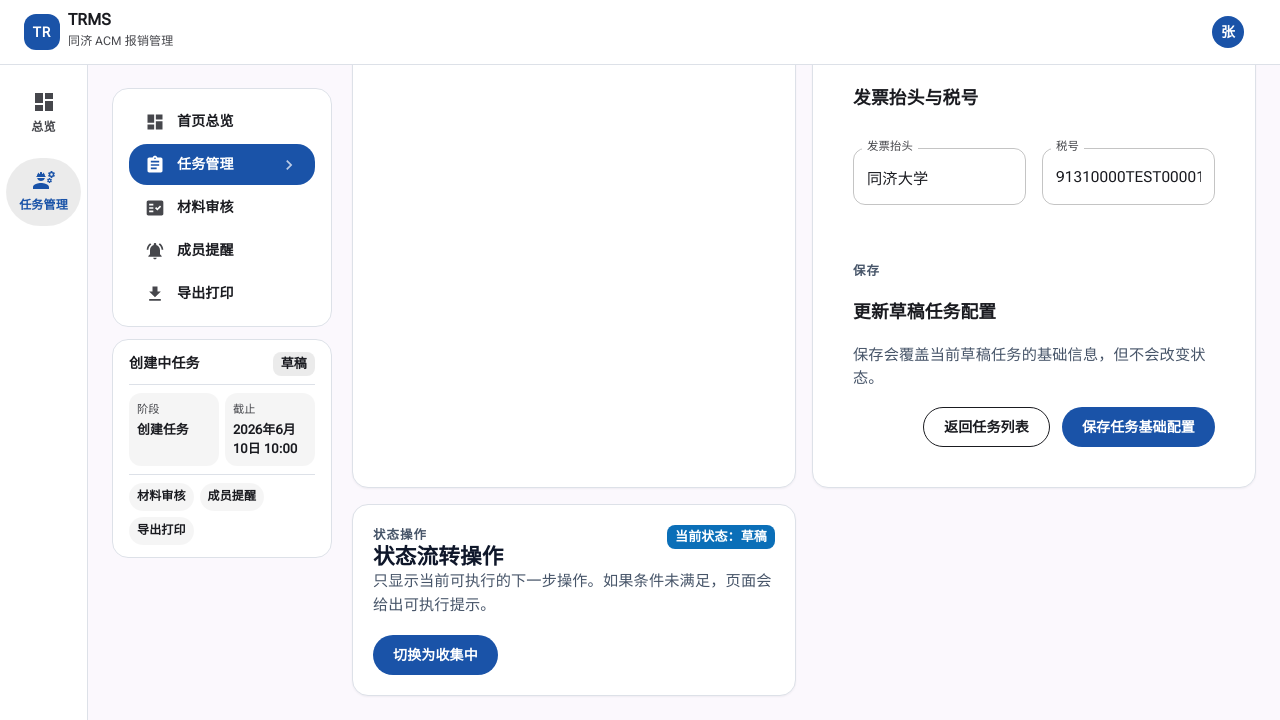
admin task detail page › updates task status when the backend accepts the transition
This screenshot has width=1280, height=720.
(page scrolled)
Click the button "切换为收集中" at (435, 655), box [373,635,498,675]
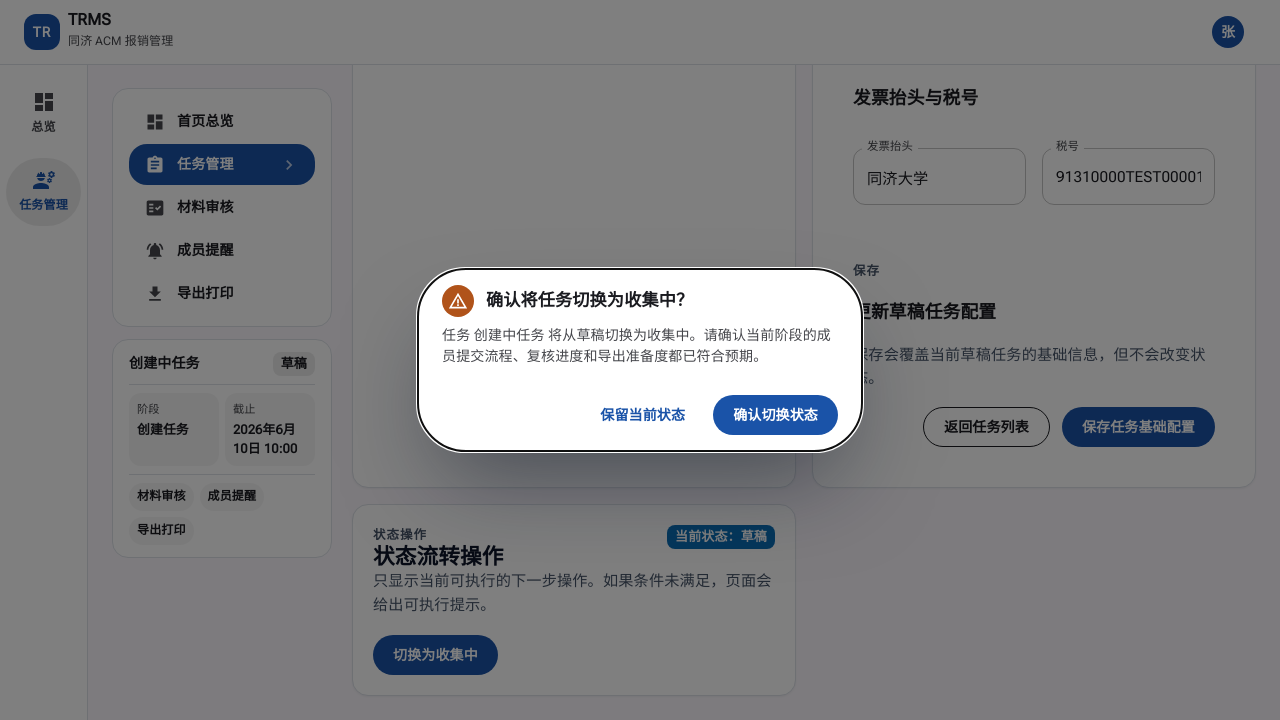
Expected: the text "任务 创建中任务 将从草稿切换为收集中。请确认当前阶段的成员提交流程、复核进度和导出准备度都已符合预期。" is shown, [442,325,838,367]
Click the button "保留当前状态" at (643, 415), box [580,395,705,435]
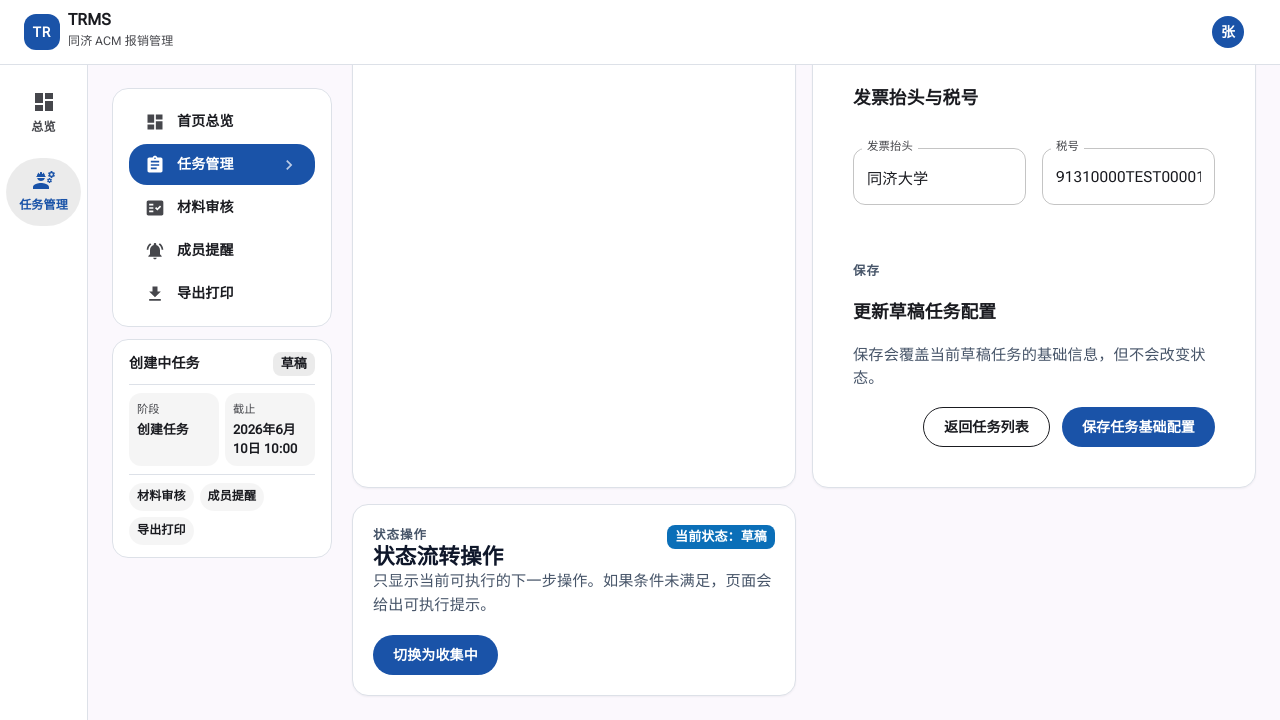
Expected: the dialog is gone
Click the button "切换为收集中" at (435, 655), box [373,635,498,675]
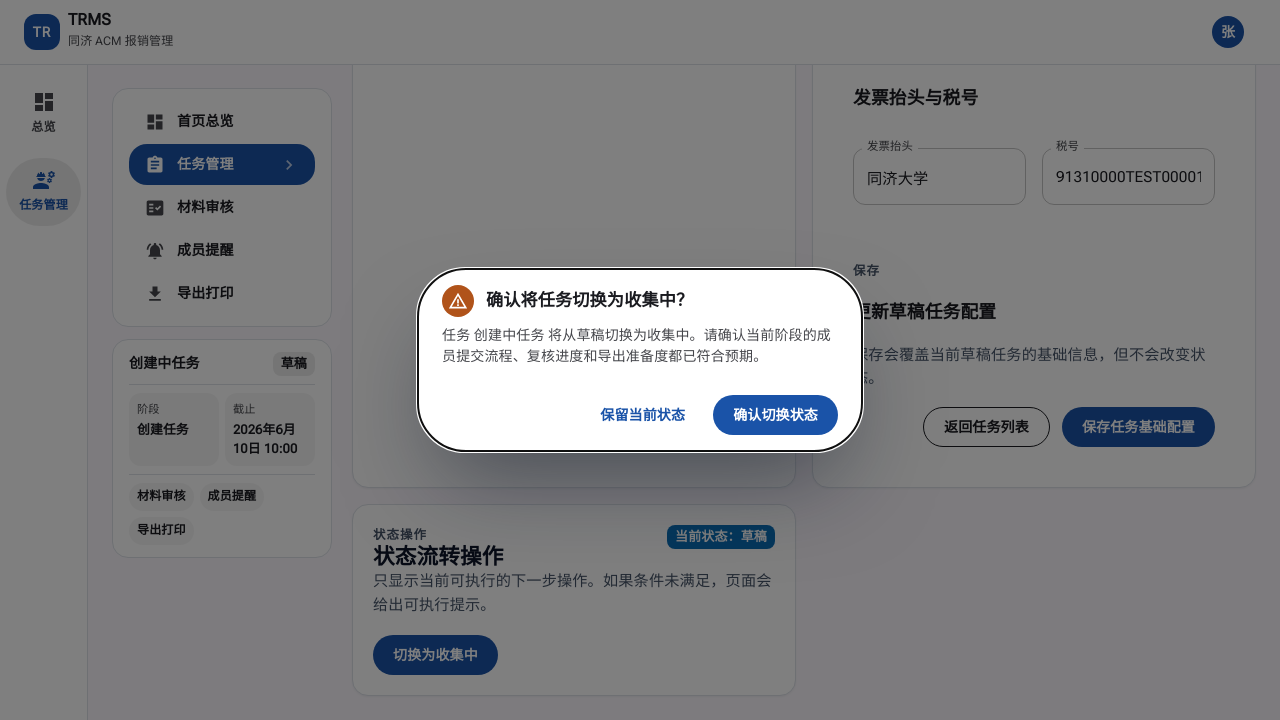
Click the button "确认切换状态" at (776, 415), box [713,395,838,435]
(page scrolled)
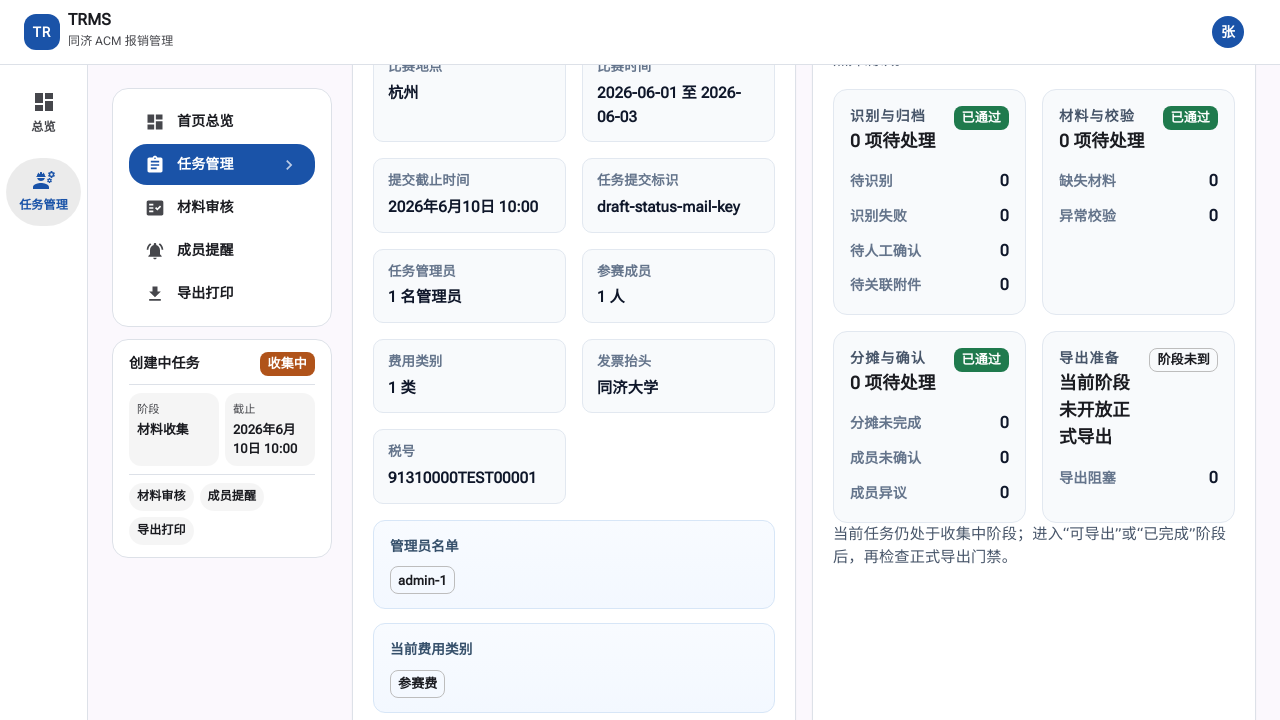
Expected: the dialog is gone
Expected: the text "当前任务仍处于收集中阶段；进入“可导出”或“已完成”阶段后，再检查正式导出门禁。" is shown, [833,523,1235,570]
Expected: the heading "当前阶段未开放正式导出" is shown, [1059,370,1133,452]
